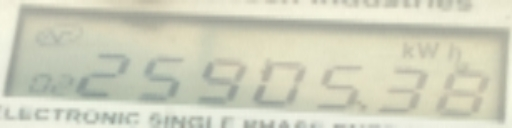0: (252, 52, 305, 105)
2: (77, 51, 130, 104)
3: (382, 59, 435, 112)
5: (135, 53, 188, 106), (310, 58, 363, 111)
8: (437, 64, 490, 117)
9: (195, 53, 248, 106)
d: (358, 100, 376, 115)
